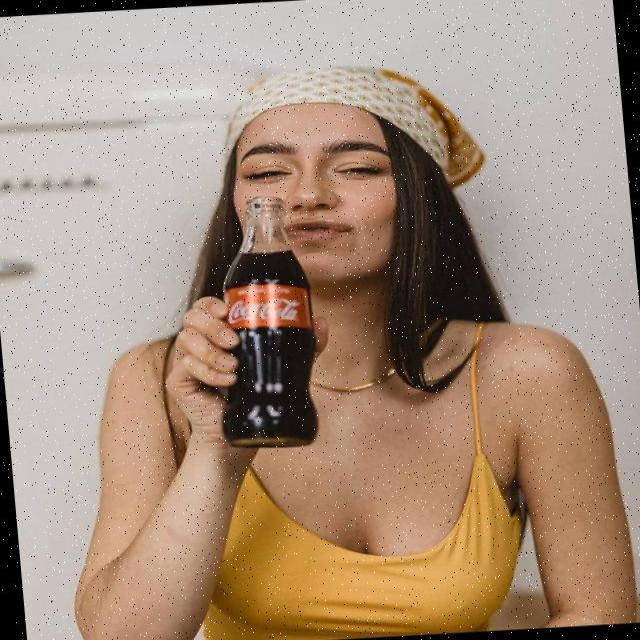coca-cola: (203, 192, 325, 453)
